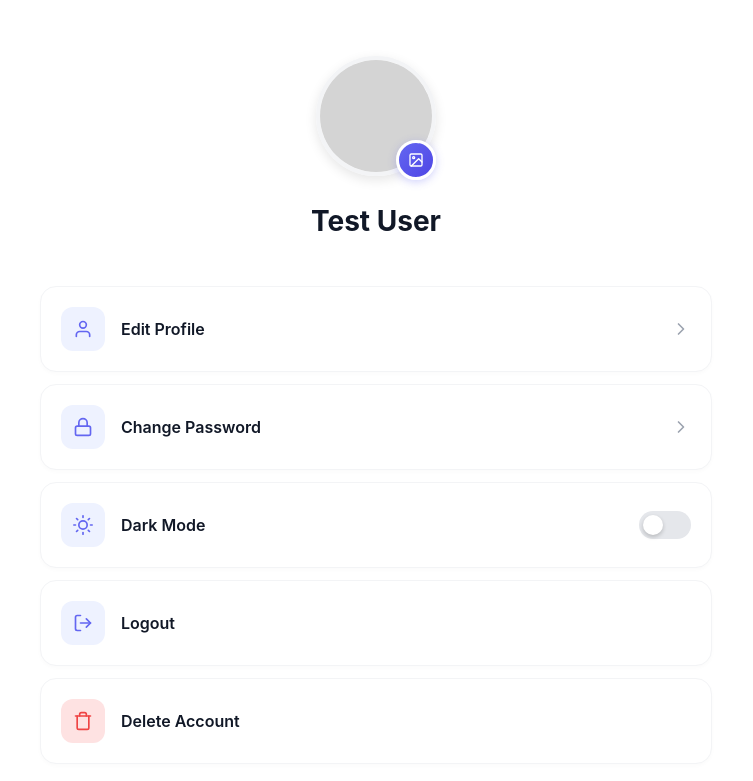
Test case: MyProfilePage - Change Password › should navigate to change password view when Change Password button is clicked
This screenshot has width=753, height=781.
Expected: the text "Change Password" is shown, [121,417,261,437]
Click the button "Change Password" at (83, 427), box [40,384,712,470]
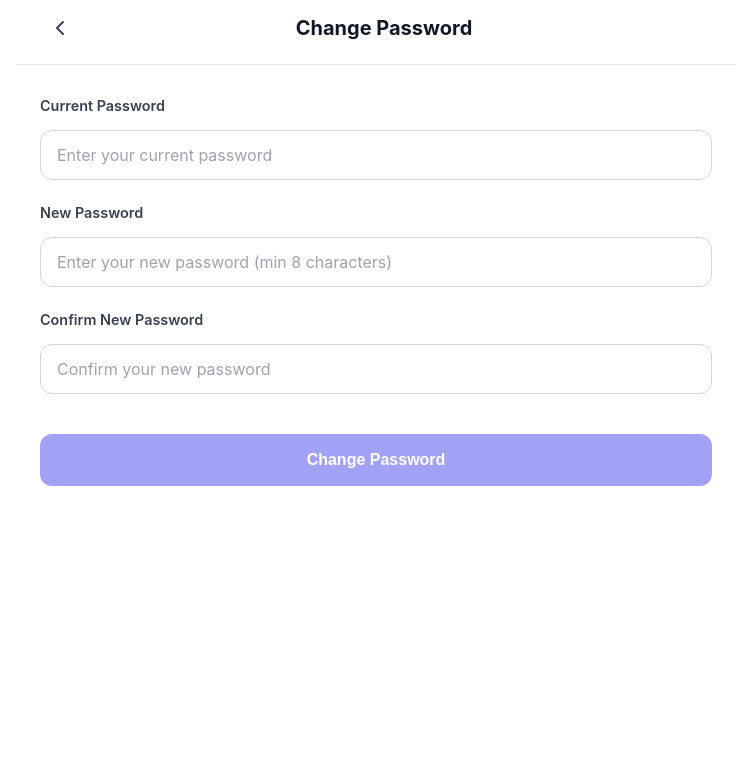
Result: the heading "Change Password" is shown at [296,16,472,40]
Result: the password field labelled "Current Password" is shown at [40,130,712,180]
